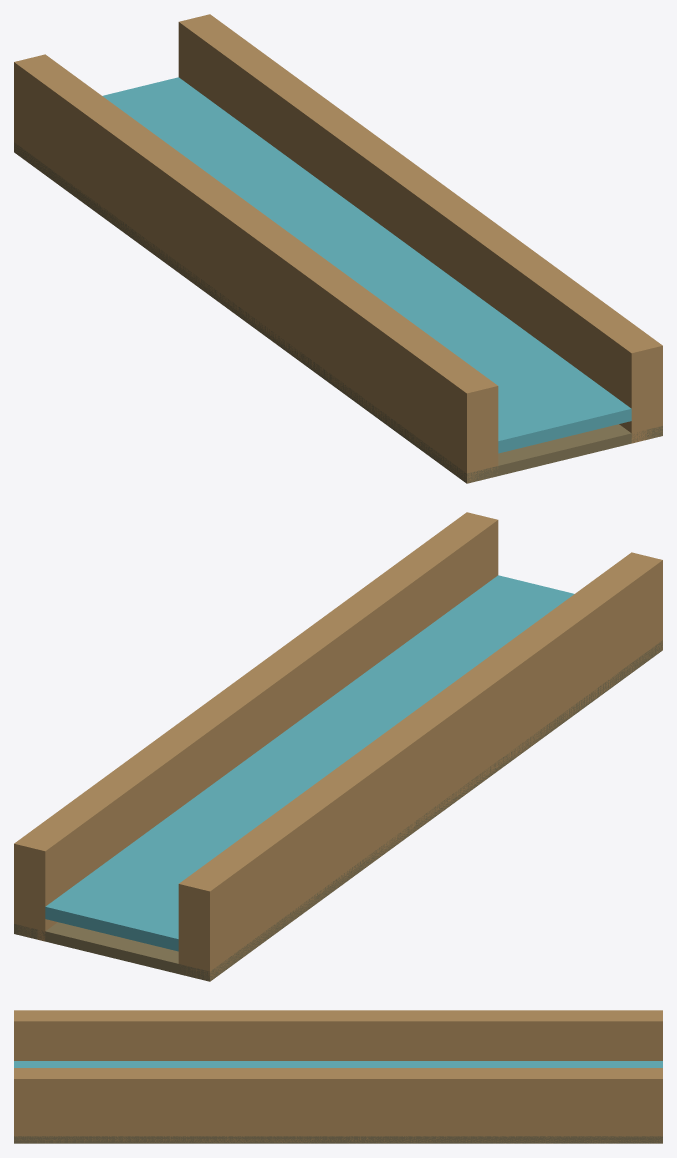
File: TR3_IrrigationDitch_Wet_4m.glb
The picture shows the model from 3 angles, top to bottom: view 1: azimuth 30°, elevation 25°; view 2: azimuth 150°, elevation 25°; view 3: azimuth 270°, elevation 25°; orthographic projection. The views are drawn at different scales.
Visible parts, largest first — view 1: TR3_IrrigationDitch_Wet_4m; view 2: TR3_IrrigationDitch_Wet_4m; view 3: TR3_IrrigationDitch_Wet_4m.
Boxes of the visible parts, x1,y1,x2,y2 form: TR3_IrrigationDitch_Wet_4m: (14, 14, 662, 483); TR3_IrrigationDitch_Wet_4m: (14, 512, 662, 981); TR3_IrrigationDitch_Wet_4m: (14, 1010, 662, 1143).
Bounding box in the file's own units: 1 × 0.44 × 4.
